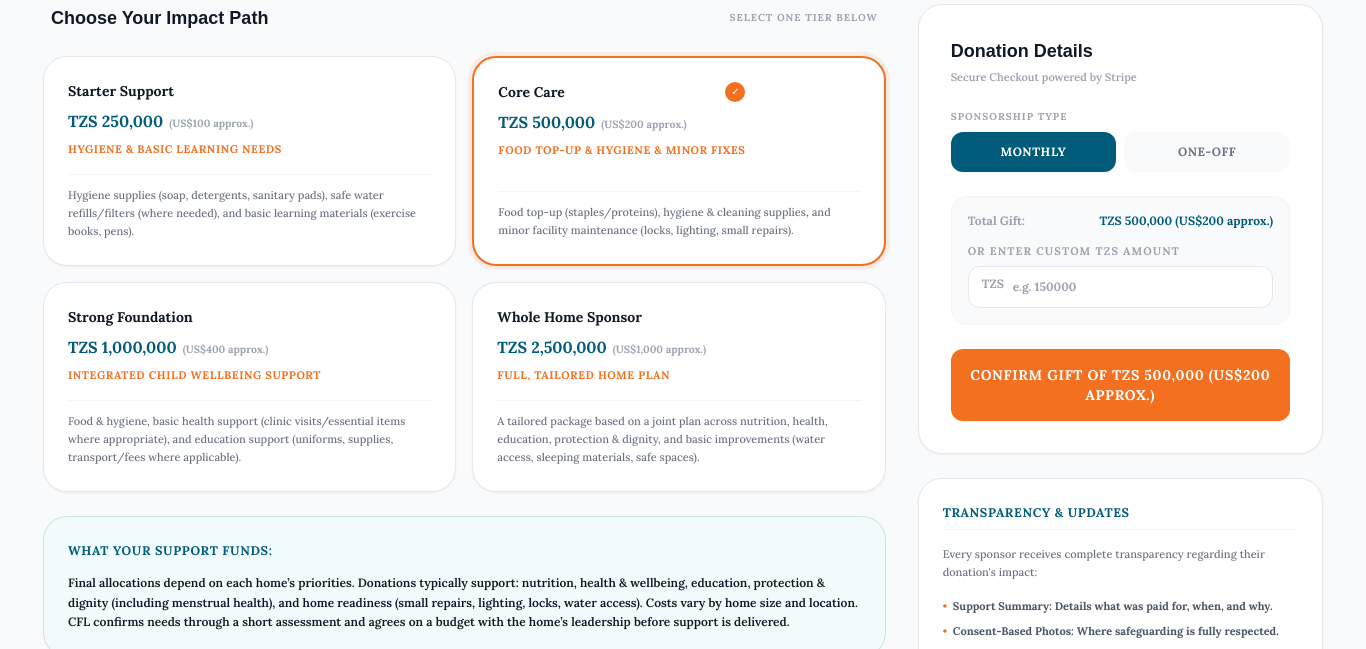
Donation Flow › surfaces a clear error when the API returns non-JSON
This screenshot has width=1366, height=649.
(page scrolled)
What coordinates should you click on to do the following:
click the button "Confirm Gift of TZS 500,000 (US$200 approx.)"
I would click on:
 (1120, 385)
Its box is [951,349,1290,421].
(page scrolled)
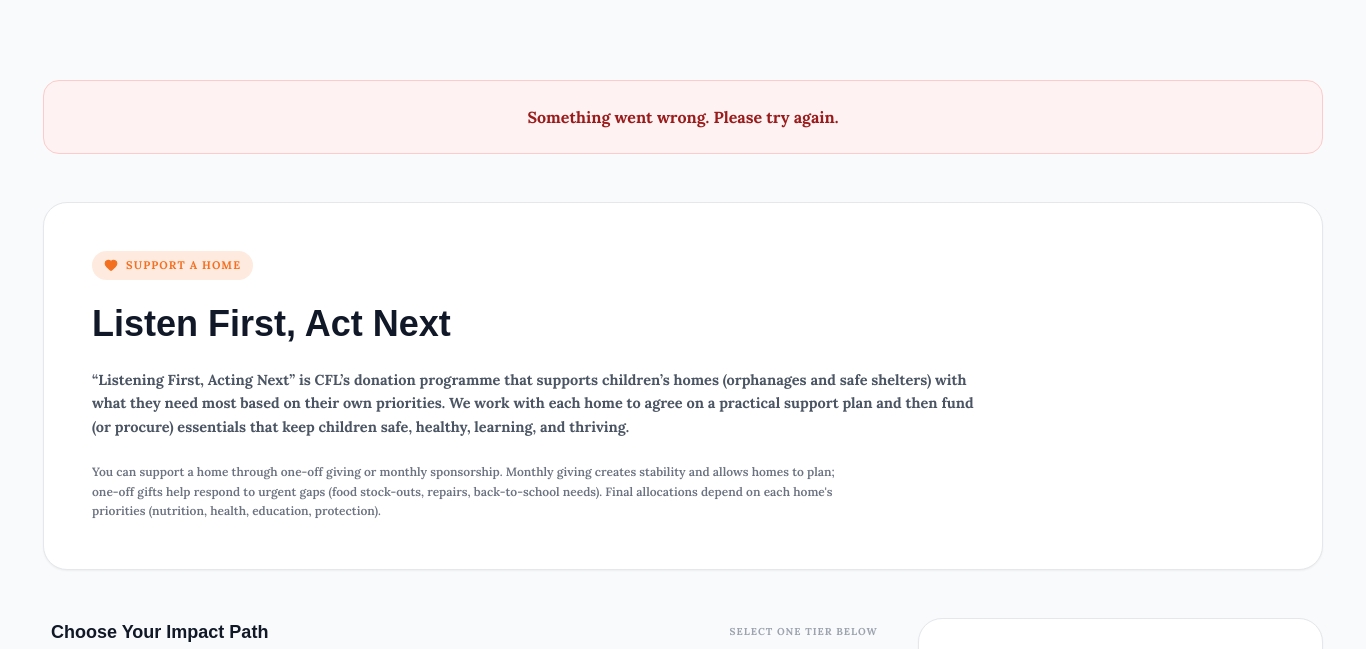
Check: the text "Something went wrong. Please try again." is shown, box [528,107,838,127]
